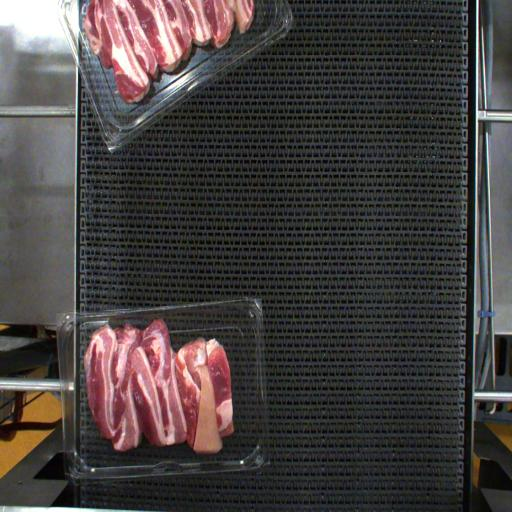twisted-meat: (173, 338, 215, 440)
